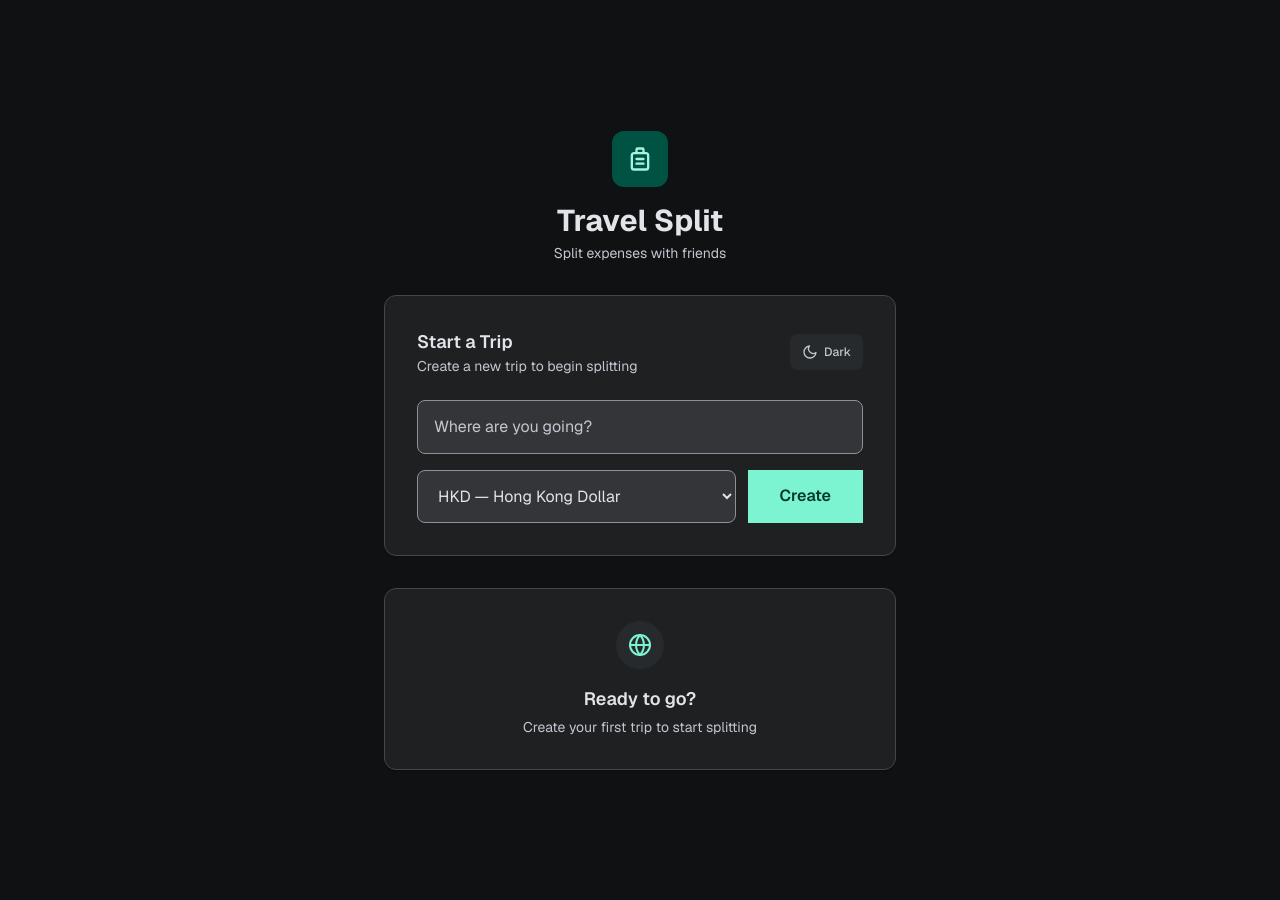
Scenario: App integration › adds a member via the manage tab
// Create a trip
Type "Test Trip" into the field with placeholder "Where are you going?" at point(640, 426), box x1=417 y1=400 x2=863 y2=454
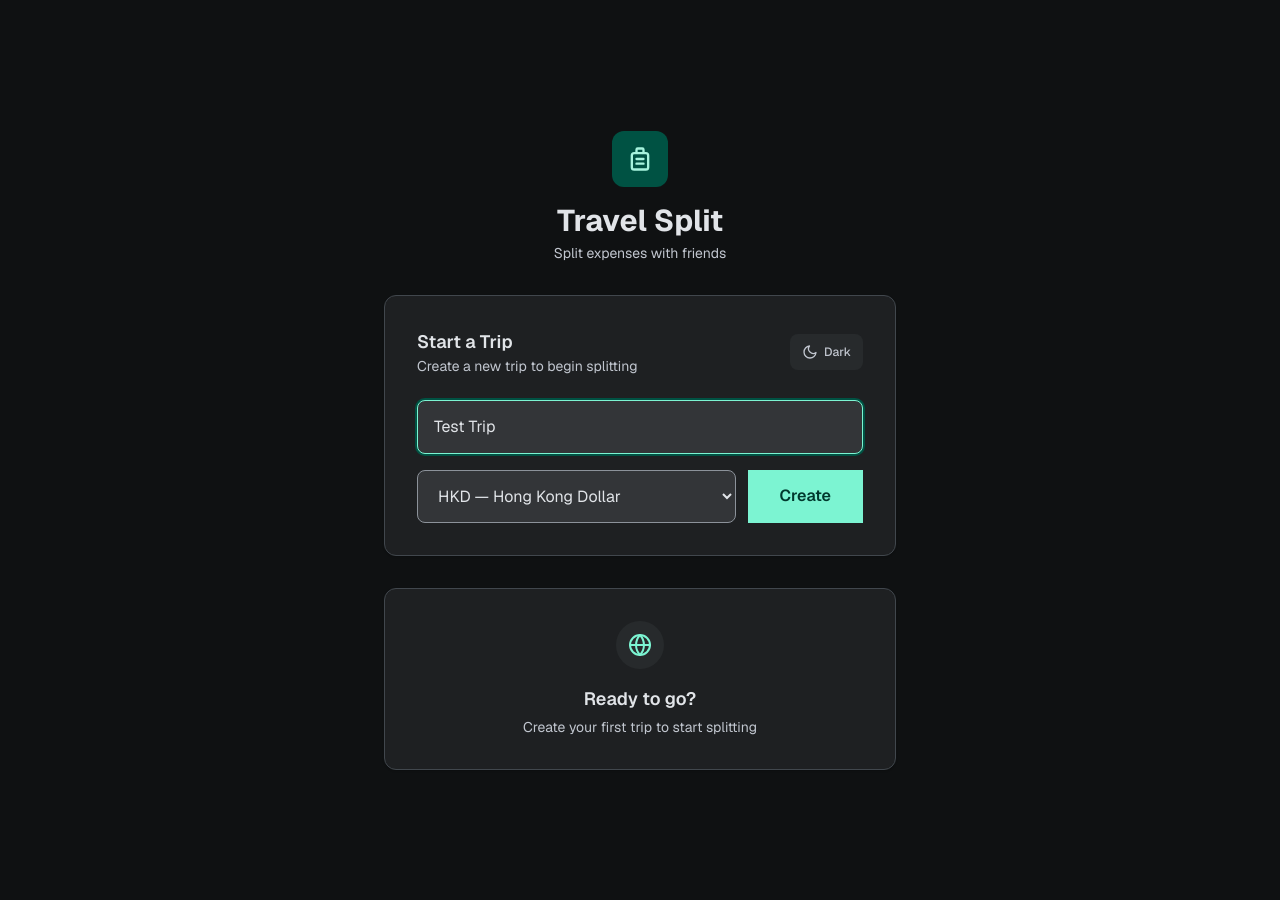
Click the button "Create" at point(805, 496), box x1=748 y1=470 x2=863 y2=522
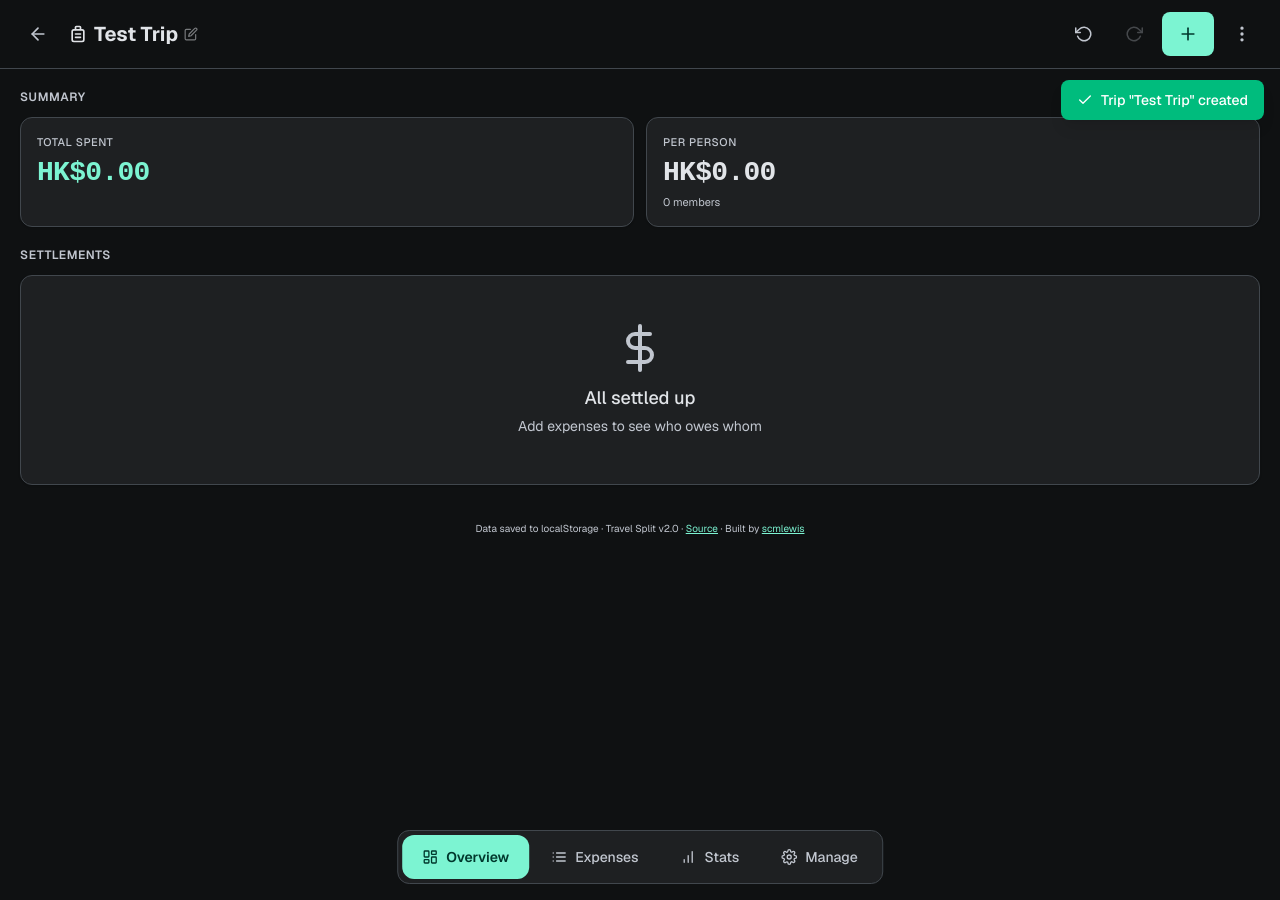
// Switch to manage tab
Click the tab with aria-label "Manage tab" at point(819, 857), box x1=761 y1=835 x2=878 y2=879
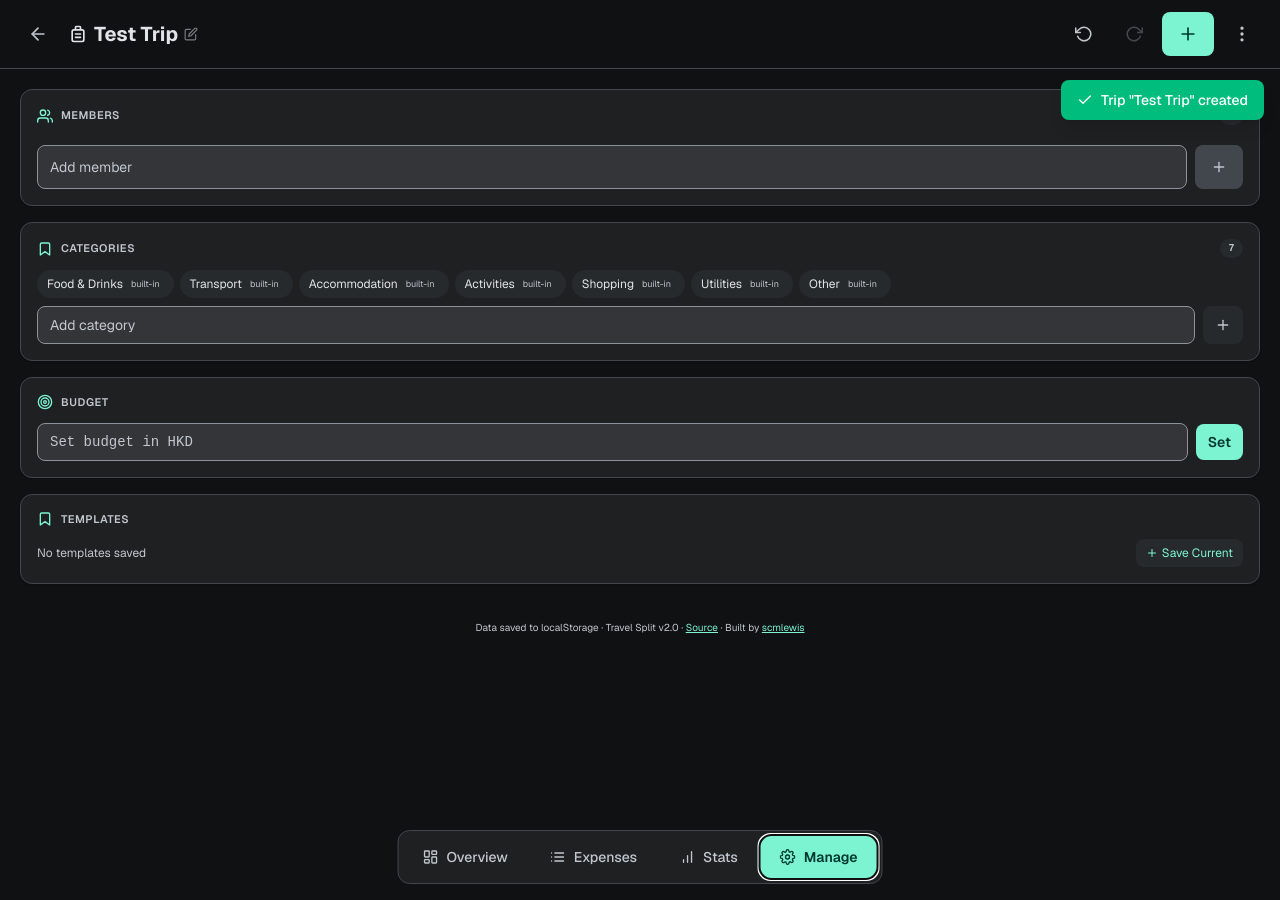
// Find the member input and add a member
Type "Alice" into the field with placeholder "Add member" at point(612, 167), box x1=37 y1=145 x2=1187 y2=189
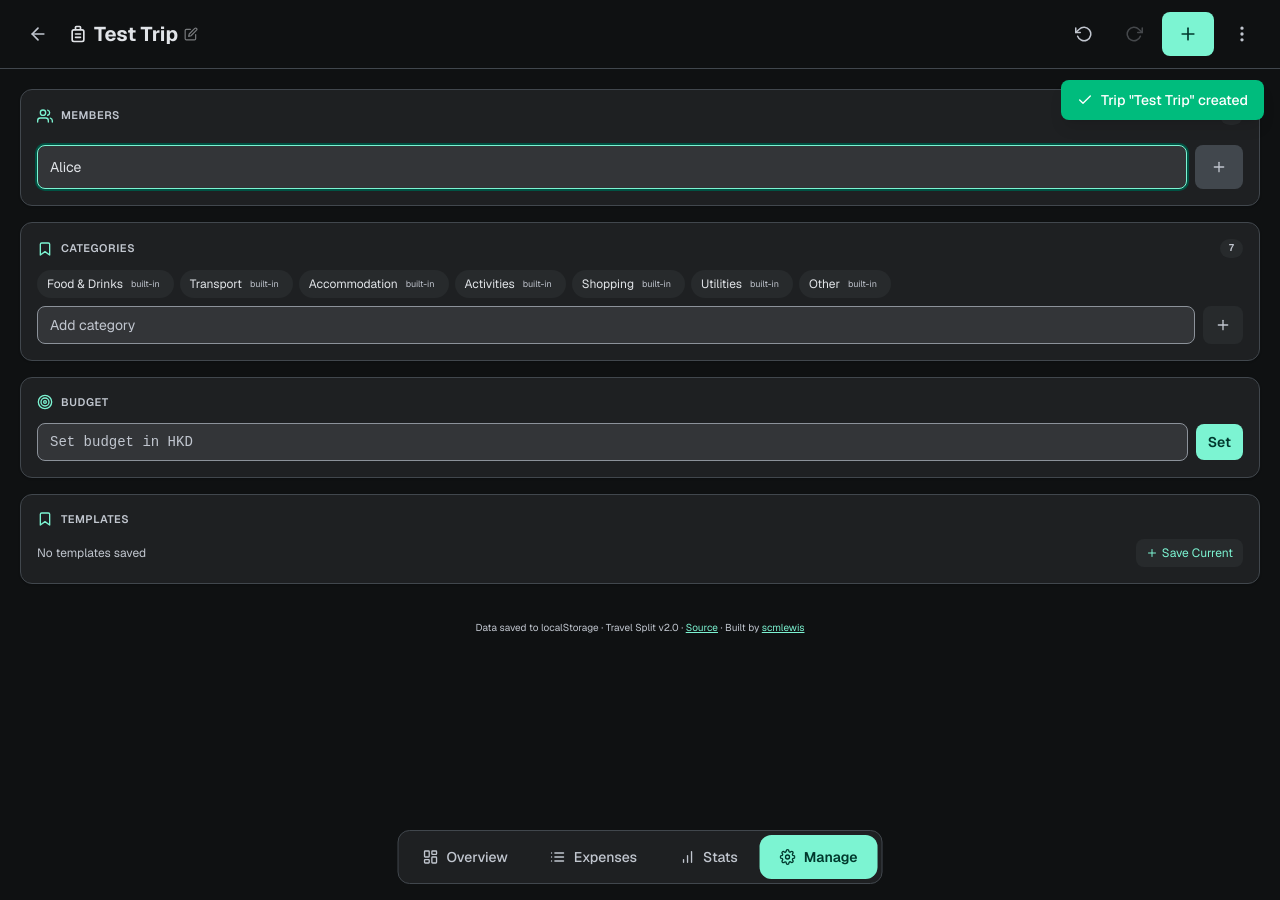
Click the button named "Add member" at point(1219, 167), box x1=1195 y1=145 x2=1243 y2=189
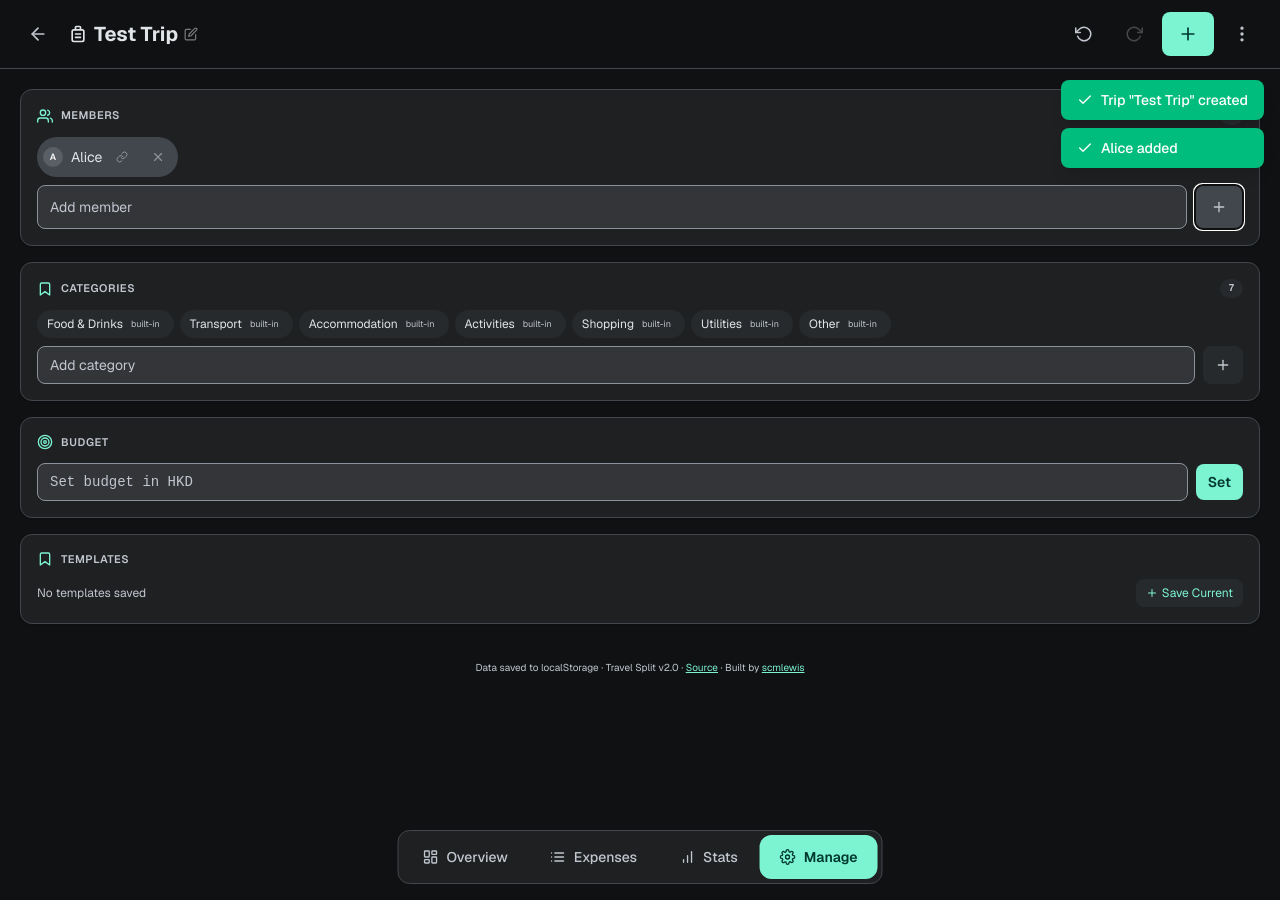
expect the text "1" is shown: met, box x1=1220 y1=106 x2=1243 y2=125
expect the text "Alice" is shown: met, box x1=69 y1=147 x2=102 y2=167
